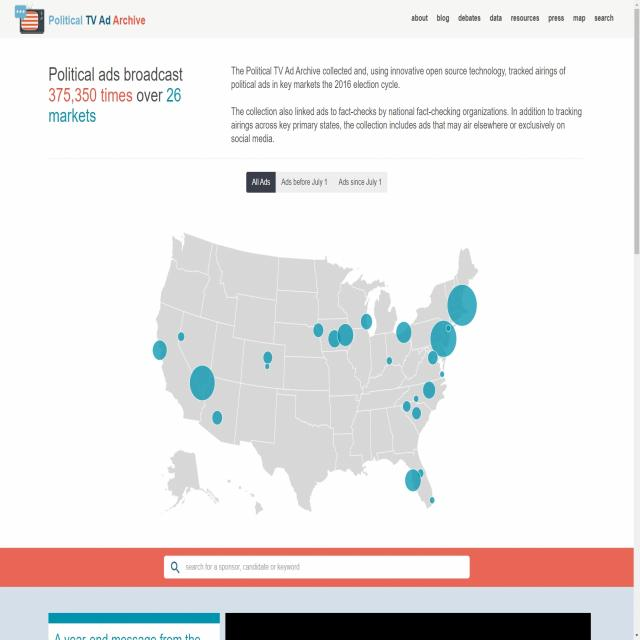menu-bar: (404, 4, 618, 29)
menu-panel: (244, 167, 389, 198)
search: (158, 551, 472, 583)
